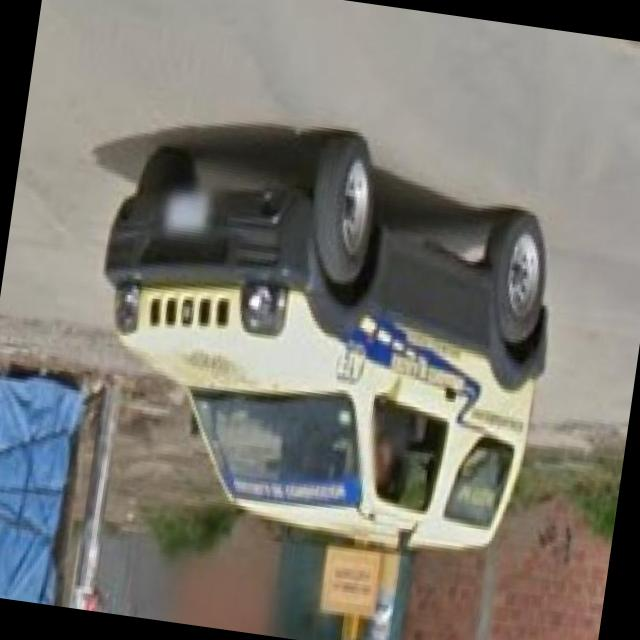car: (79, 106, 576, 567)
